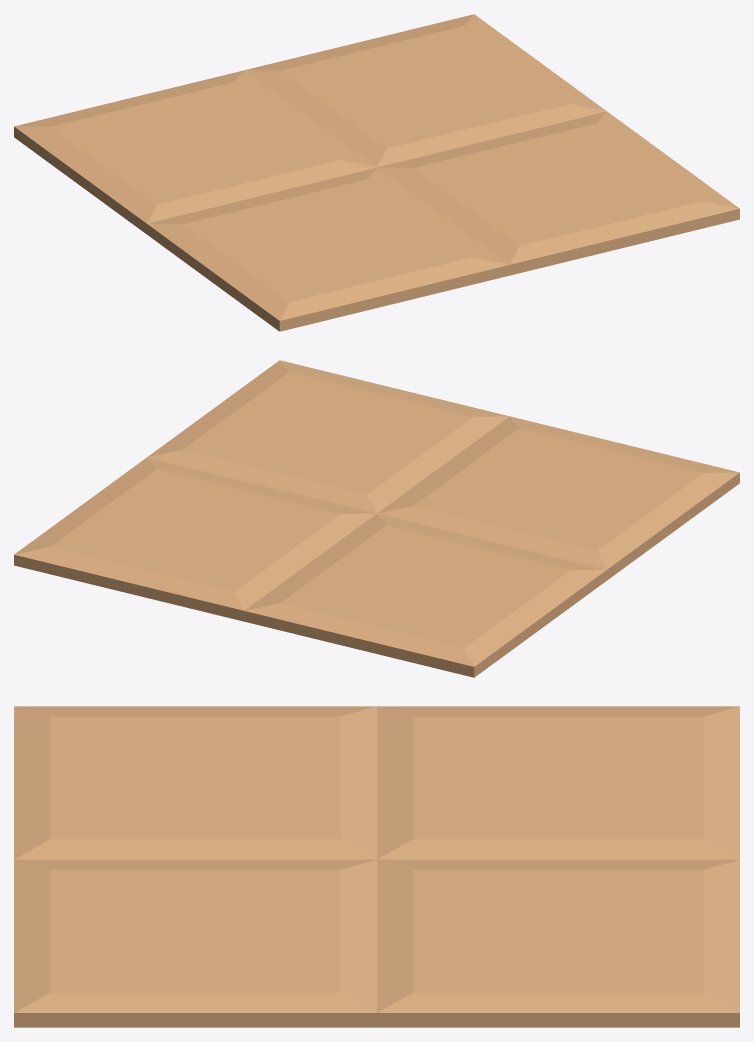
Rendered from WoodBigFloorTile.fbx.
3 views of the same model, one above another, from view 1: azimuth 30°, elevation 25°; view 2: azimuth 150°, elevation 25°; view 3: azimuth 270°, elevation 25° (orthographic). The views are drawn at different scales.
Parts seen in each view (by area): view 1: WoodBigFloorTile; view 2: WoodBigFloorTile; view 3: WoodBigFloorTile.
Part boxes in pixels (<box>): WoodBigFloorTile: <box>14,14,739,331</box>; WoodBigFloorTile: <box>14,360,739,677</box>; WoodBigFloorTile: <box>14,706,739,1027</box>.
Size of the model in its own units: 400 by 12 by 400.
